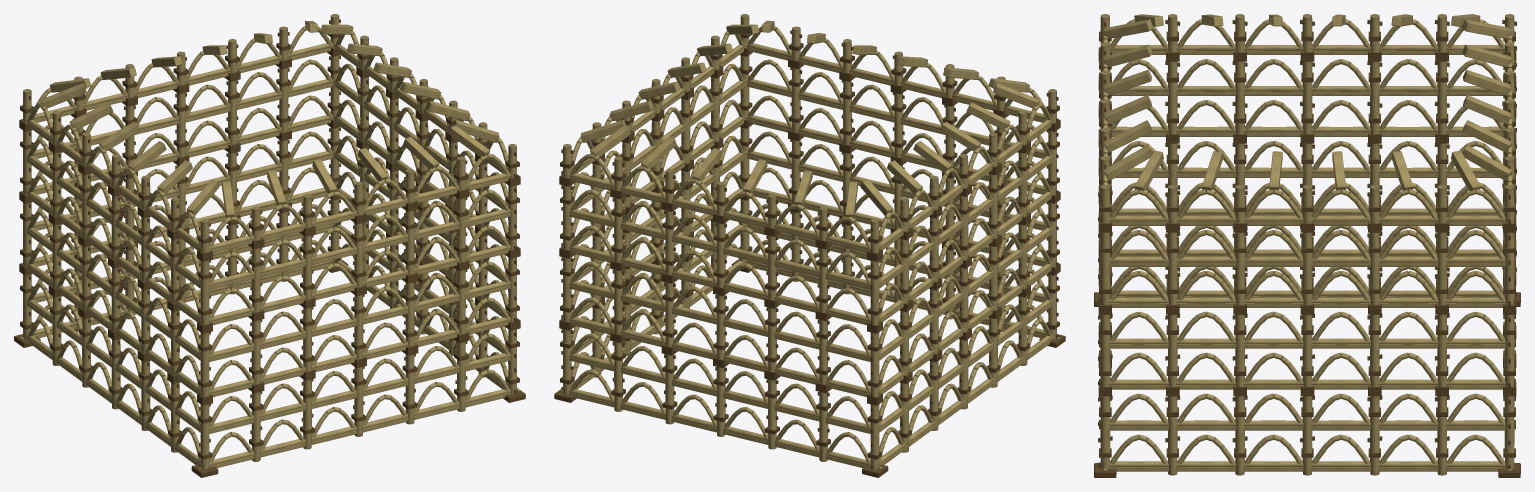
3 views of the same model, side by side, from view 1: azimuth 30°, elevation 25°; view 2: azimuth 150°, elevation 25°; view 3: azimuth 270°, elevation 25° (orthographic). The views are drawn at different scales.
Visible parts, largest first — view 1: Tier 0 side 0 post 4, Tier 2 side 0 post 0, Tier 1 side 0 post 0, Tier 0 side 0 post 0, Tier 0 side 0 post 3, Tier 0 side 0 post 1; view 2: Tier 0 side 2 post 2, Tier 2 side 3 post 0, Tier 0 side 2 post 3, Tier 0 side 3 post 0, Tier 1 side 3 post 0; view 3: Tier 0 side 1 post 3, Crown petal 2-0, Tier 2 side 3 post 3, Crown petal 0-5, Tier 0 side 1 post 5, Tier 2 side 1 post 3, Tier 0 side 1 post 2, Tier 1 side 1 post 3, Tier 0 side 1 post 4, Tier 0 side 1 post 1, Crown petal 2-1, Tier 1 side 1 post 0 (+30 smaller).
Boxes of the visible parts, x1=… form: Tier 0 side 0 post 4: x1=405, y1=354, x2=414, y2=424; Tier 2 side 0 post 0: x1=200, y1=260, x2=209, y2=325; Tier 1 side 0 post 0: x1=200, y1=332, x2=209, y2=397; Tier 0 side 0 post 0: x1=200, y1=404, x2=209, y2=469; Tier 0 side 0 post 3: x1=354, y1=367, x2=363, y2=436; Tier 0 side 0 post 1: x1=251, y1=392, x2=260, y2=461; Tier 0 side 2 post 2: x1=665, y1=354, x2=674, y2=424; Tier 2 side 3 post 0: x1=870, y1=260, x2=879, y2=325; Tier 0 side 2 post 3: x1=716, y1=367, x2=725, y2=436; Tier 0 side 3 post 0: x1=870, y1=404, x2=879, y2=469; Tier 1 side 3 post 0: x1=870, y1=332, x2=879, y2=397; Tier 0 side 1 post 3: x1=1302, y1=396, x2=1312, y2=475; Crown petal 2-0: x1=1462, y1=145, x2=1512, y2=180; Tier 2 side 3 post 3: x1=1302, y1=61, x2=1312, y2=134; Crown petal 0-5: x1=1102, y1=145, x2=1152, y2=180; Tier 0 side 1 post 5: x1=1437, y1=396, x2=1446, y2=475; Tier 2 side 1 post 3: x1=1302, y1=232, x2=1312, y2=304; Tier 0 side 1 post 2: x1=1235, y1=396, x2=1244, y2=475; Tier 1 side 1 post 3: x1=1302, y1=314, x2=1312, y2=386; Tier 0 side 1 post 4: x1=1370, y1=396, x2=1379, y2=475; Tier 0 side 1 post 1: x1=1168, y1=396, x2=1177, y2=475; Crown petal 2-1: x1=1462, y1=120, x2=1511, y2=152; Tier 1 side 1 post 0: x1=1100, y1=314, x2=1110, y2=386.
Bounding box in the file's own units: 2.85 × 2.24 × 2.85.
Materials: 2 (2 with a texture image).
